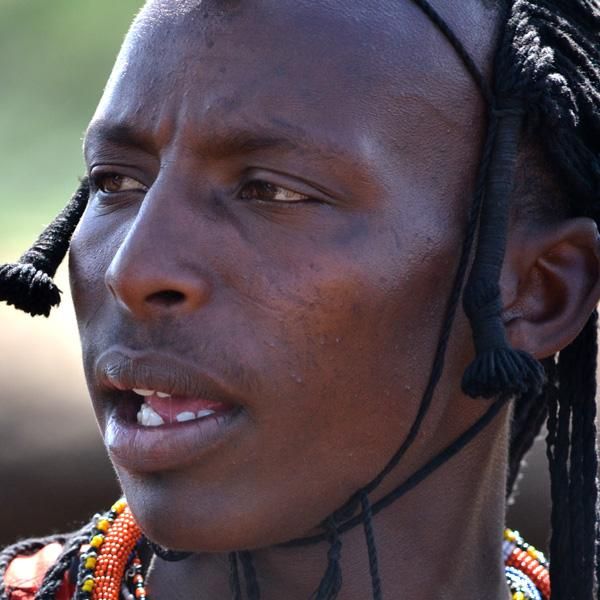Eyes: (217, 159, 343, 233), (81, 147, 152, 211)
